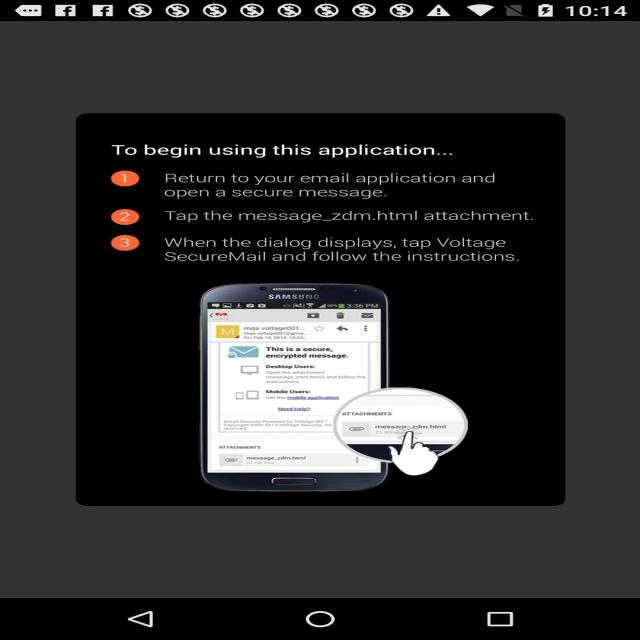icon: (104, 160, 164, 264)
image: (81, 116, 580, 509)
text: (94, 132, 556, 280)
